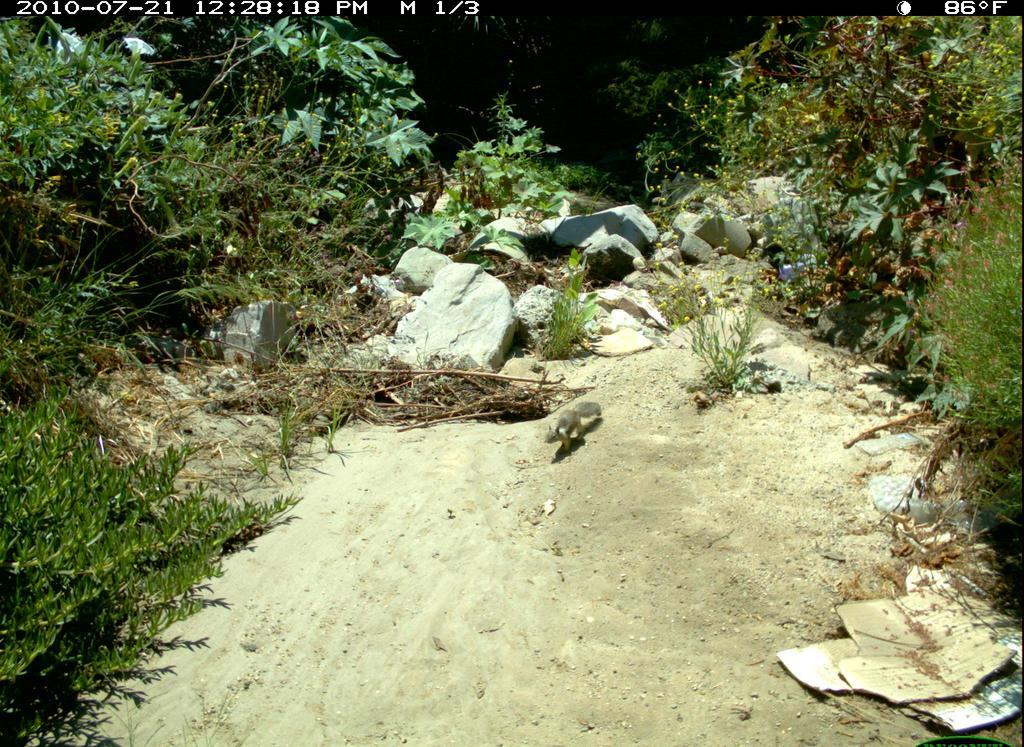squirrel: (533, 391, 612, 461)
